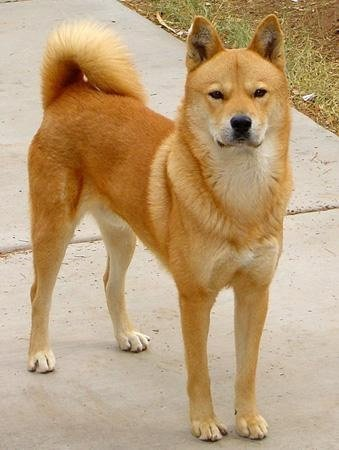dog: (29, 14, 295, 442)
